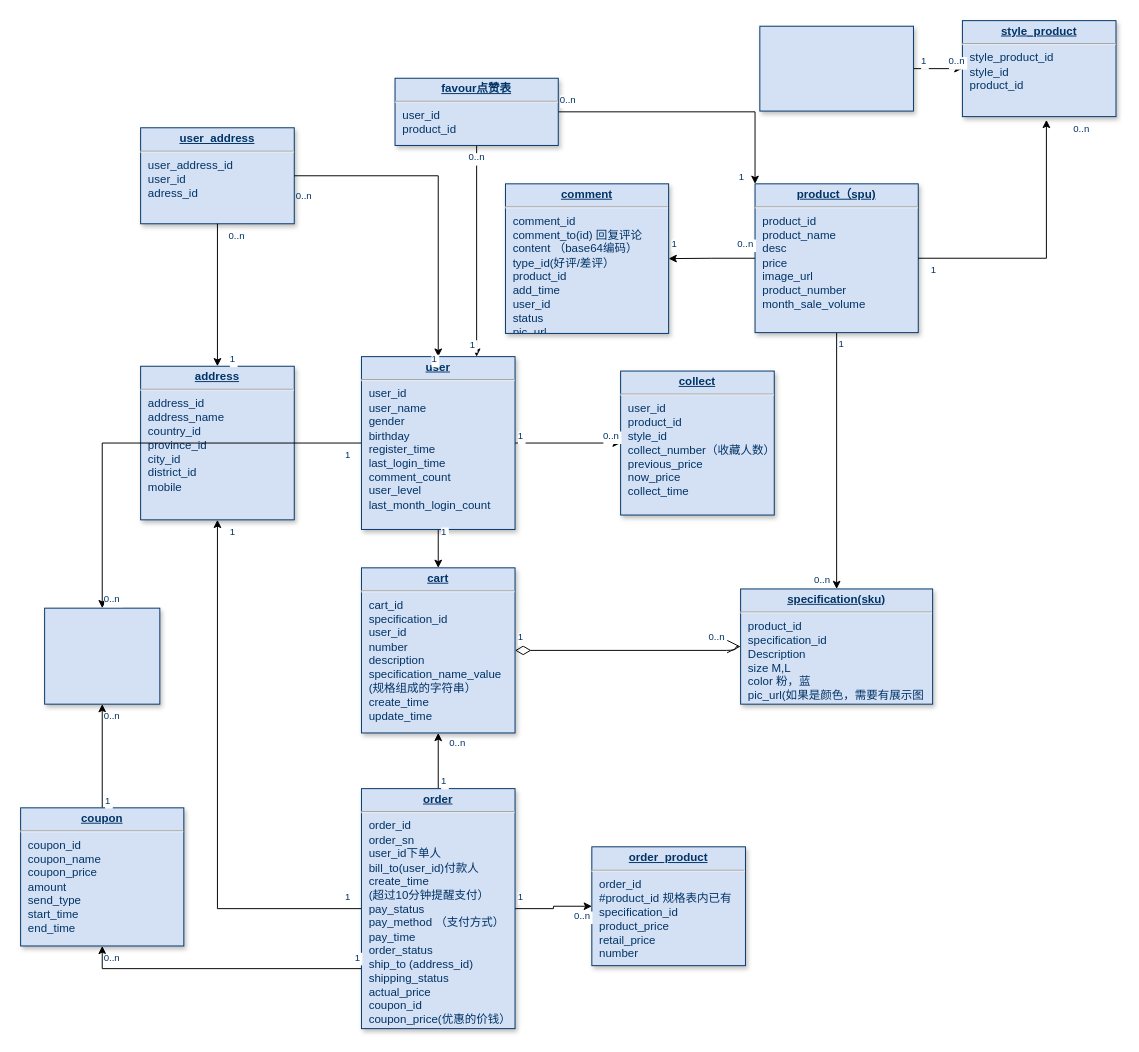
The diagram is 1139 pixels wide and 1052 high, and some of its shapes have lost their labels. The shapes that lost their labels are listed below. From the top down, each one's centre as x and y in pixels, then its label:
At point 837,69: "style style_id style_name desc".
At point 103,657: "user_coupon coupon_id user_id used_time order_id".
